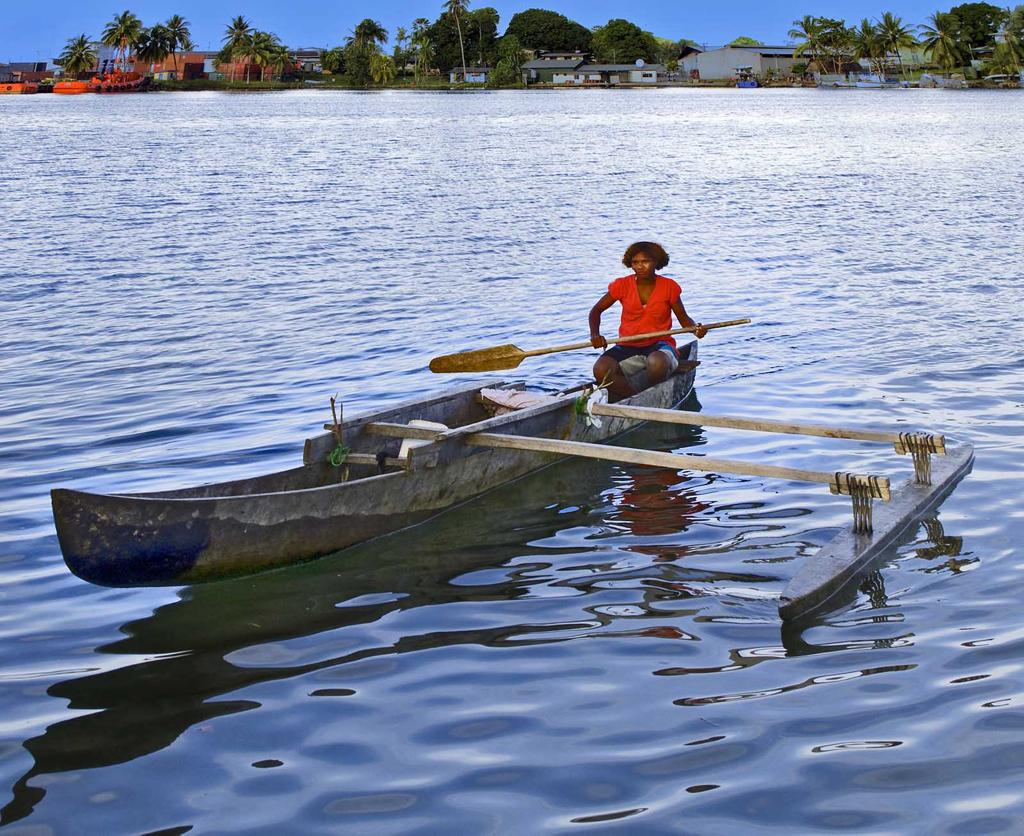face: (632, 253, 654, 278)
